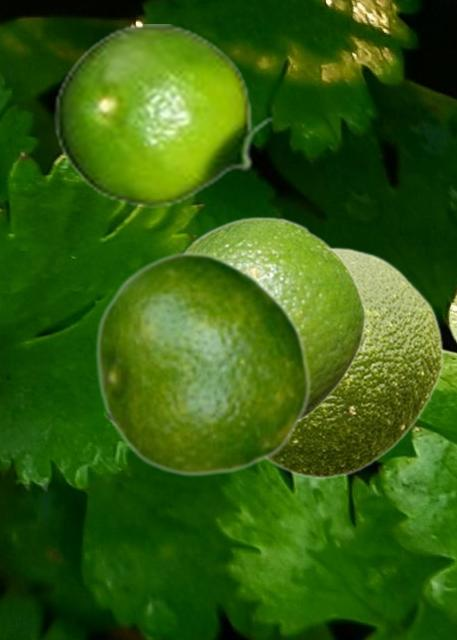calamansi: (94, 250, 311, 476), (267, 246, 443, 479), (53, 24, 274, 207), (185, 216, 365, 420)
